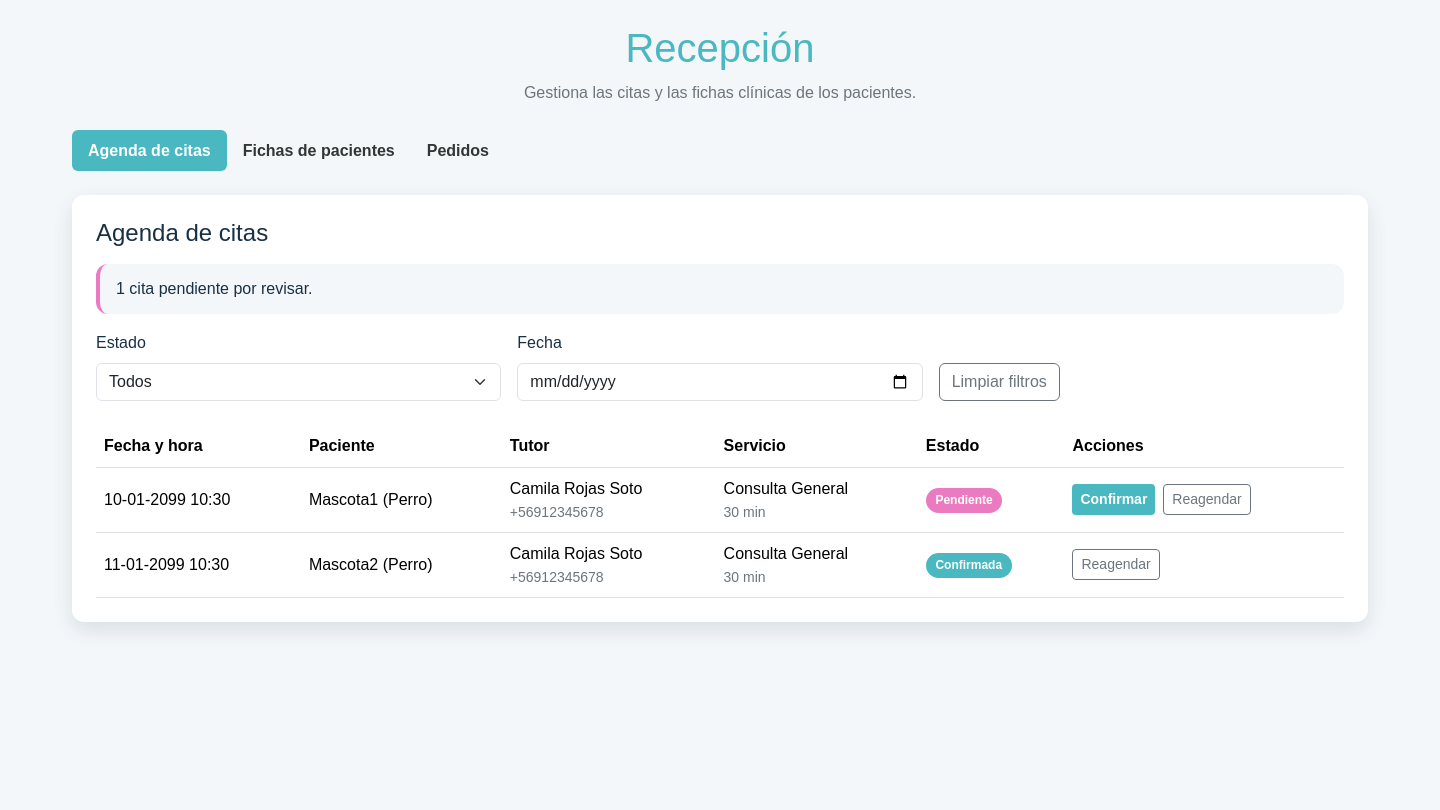
Scenario: AgendaCitas › filtra las citas por estado
Select "Confirmada" in the dropdown labelled "Estado" at (299, 382), box [96,363,501,401]
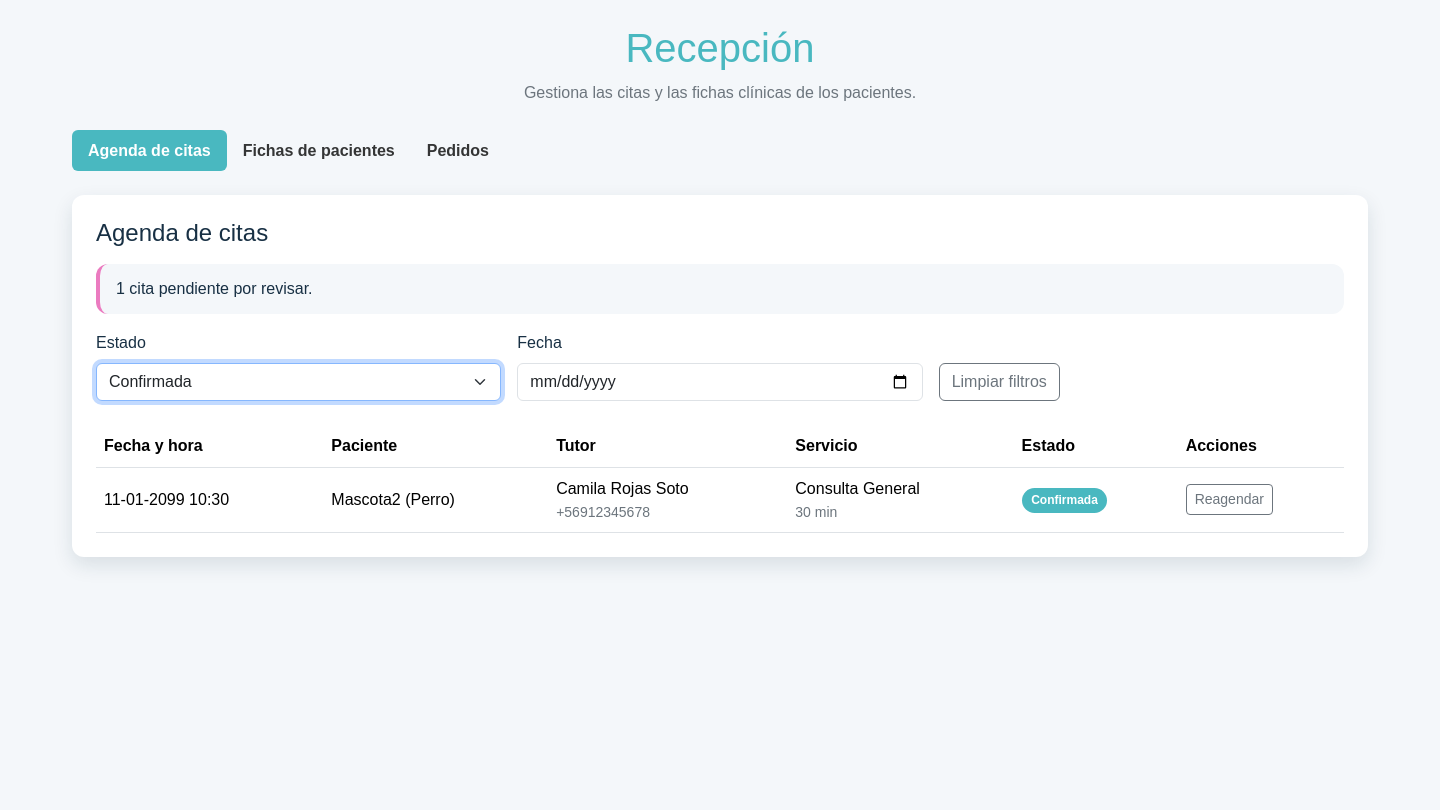
Check: the text "Mascota2 (Perro)" is shown, box [323,467,548,532]
Check: the text "Mascota1" is gone
